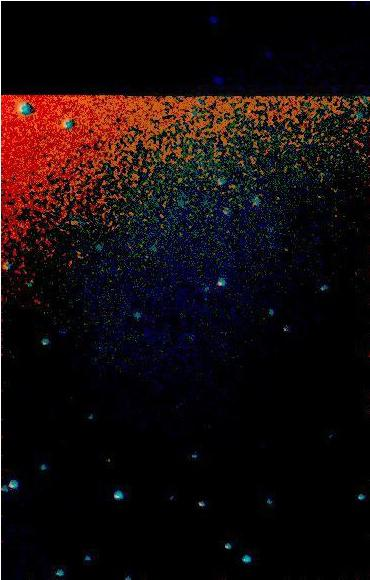star: (95, 445, 125, 475)
